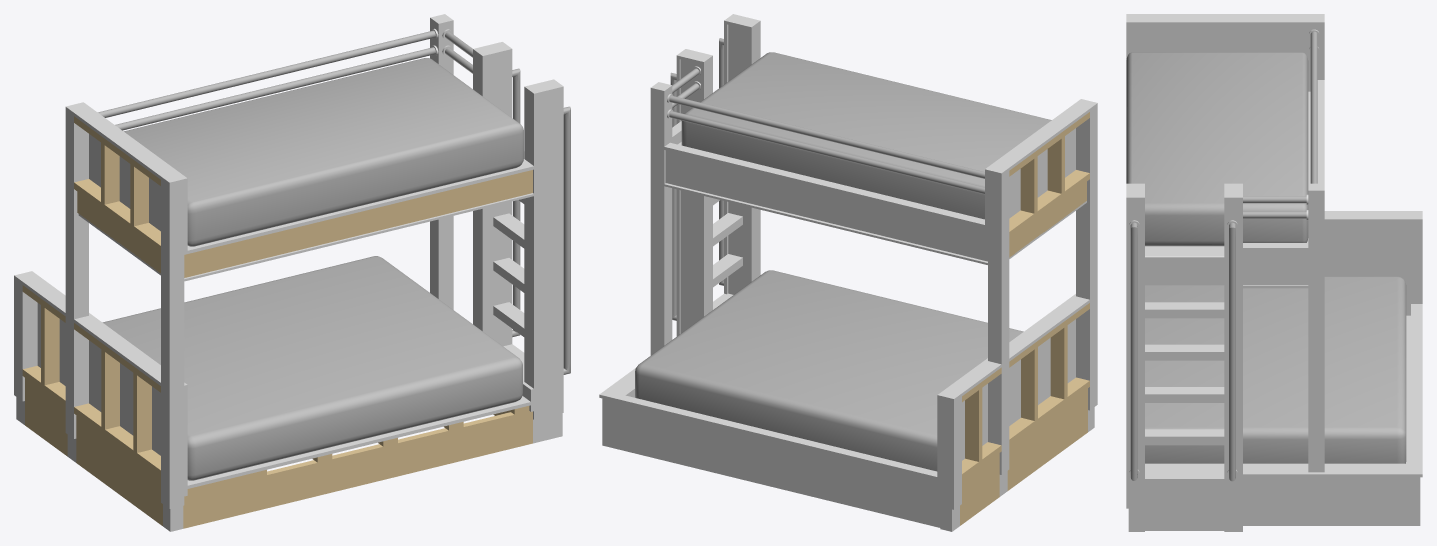
The model's file is queen.glb.
3 views of the same model, side by side, from view 1: azimuth 30°, elevation 25°; view 2: azimuth 150°, elevation 25°; view 3: azimuth 270°, elevation 25° (orthographic). The views are drawn at different scales.
Parts seen in each view (by area): view 1: Cube, Cube.001, queen-rail-side.004, twin-rail-side.004, leg.013, leg.011, leg.014, ladder-leg.004, queen-rail-head.004, leg.015, queen-head.002, bar-guard.010 (+26 smaller); view 2: Cube, Cube.001, queen-rail-side-molding.001, twin-rail-molding.004, leg.014, leg.013, leg.012, queen-rail-head.004, queen-rail-side-molding.005, twin-rail-molding.005, leg-queen.002, leg.015 (+25 smaller); view 3: Cube, Cube.001, queen-rail-foot-molding.008, twin-head.002, queen-head.002, leg.012, ladder-leg.004, ladder-rail-molding.002, ladder-leg.005, twin-head-molding.005, twin-foot-molding.007, twin-foot-molding.006 (+22 smaller).
Part boxes in pixels (left/top/right/bottom): Cube: left=102, top=256, right=522, bottom=480; Cube.001: left=124, top=58, right=523, bottom=246; queen-rail-side.004: left=183, top=411, right=532, bottom=528; twin-rail-side.004: left=184, top=170, right=532, bottom=277; leg.013: left=161, top=180, right=184, bottom=531; leg.011: left=525, top=91, right=548, bottom=443; leg.014: left=65, top=110, right=88, bottom=462; ladder-leg.004: left=547, top=90, right=563, bottom=439; queen-rail-head.004: left=76, top=415, right=162, bottom=525; leg.015: left=474, top=53, right=497, bottom=341; queen-head.002: left=37, top=303, right=187, bottom=496; bar-guard.010: left=98, top=30, right=435, bottom=117; Cube: left=635, top=270, right=1023, bottom=471; Cube.001: left=681, top=52, right=1051, bottom=219; queen-rail-side-molding.001: left=604, top=400, right=940, bottom=527; twin-rail-molding.004: left=665, top=150, right=987, bottom=261; leg.014: left=988, top=171, right=1009, bottom=496; leg.013: left=1076, top=106, right=1097, bottom=431; leg.012: left=650, top=89, right=672, bottom=355; queen-rail-head.004: left=1007, top=388, right=1087, bottom=490; queen-rail-side-molding.005: left=599, top=394, right=940, bottom=480; twin-rail-molding.005: left=664, top=142, right=987, bottom=228; leg-queen.002: left=940, top=396, right=961, bottom=531; leg.015: left=691, top=59, right=712, bottom=325; Cube: left=1145, top=276, right=1406, bottom=463; Cube.001: left=1126, top=52, right=1308, bottom=246; queen-rail-foot-molding.008: left=1243, top=478, right=1420, bottom=525; twin-head.002: left=1126, top=25, right=1312, bottom=91; queen-head.002: left=1324, top=222, right=1410, bottom=315; leg.012: left=1308, top=193, right=1324, bottom=472; ladder-leg.004: left=1126, top=200, right=1142, bottom=531; ladder-rail-molding.002: left=1145, top=483, right=1224, bottom=530; ladder-leg.005: left=1224, top=200, right=1240, bottom=531; twin-head-molding.005: left=1126, top=14, right=1324, bottom=25; twin-foot-molding.007: left=1145, top=255, right=1224, bottom=283; twin-foot-molding.006: left=1243, top=251, right=1308, bottom=285.
Size of the model in its own units: 2.43 by 2.01 by 1.61.
